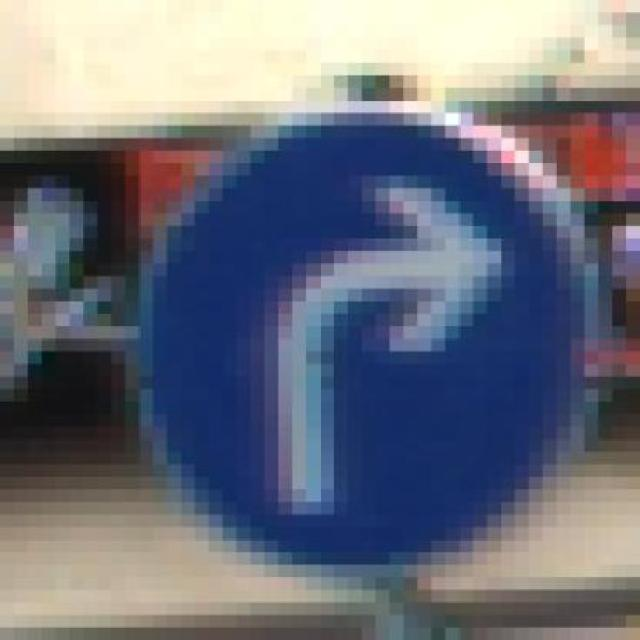Turn right ahead: (125, 76, 612, 564)
